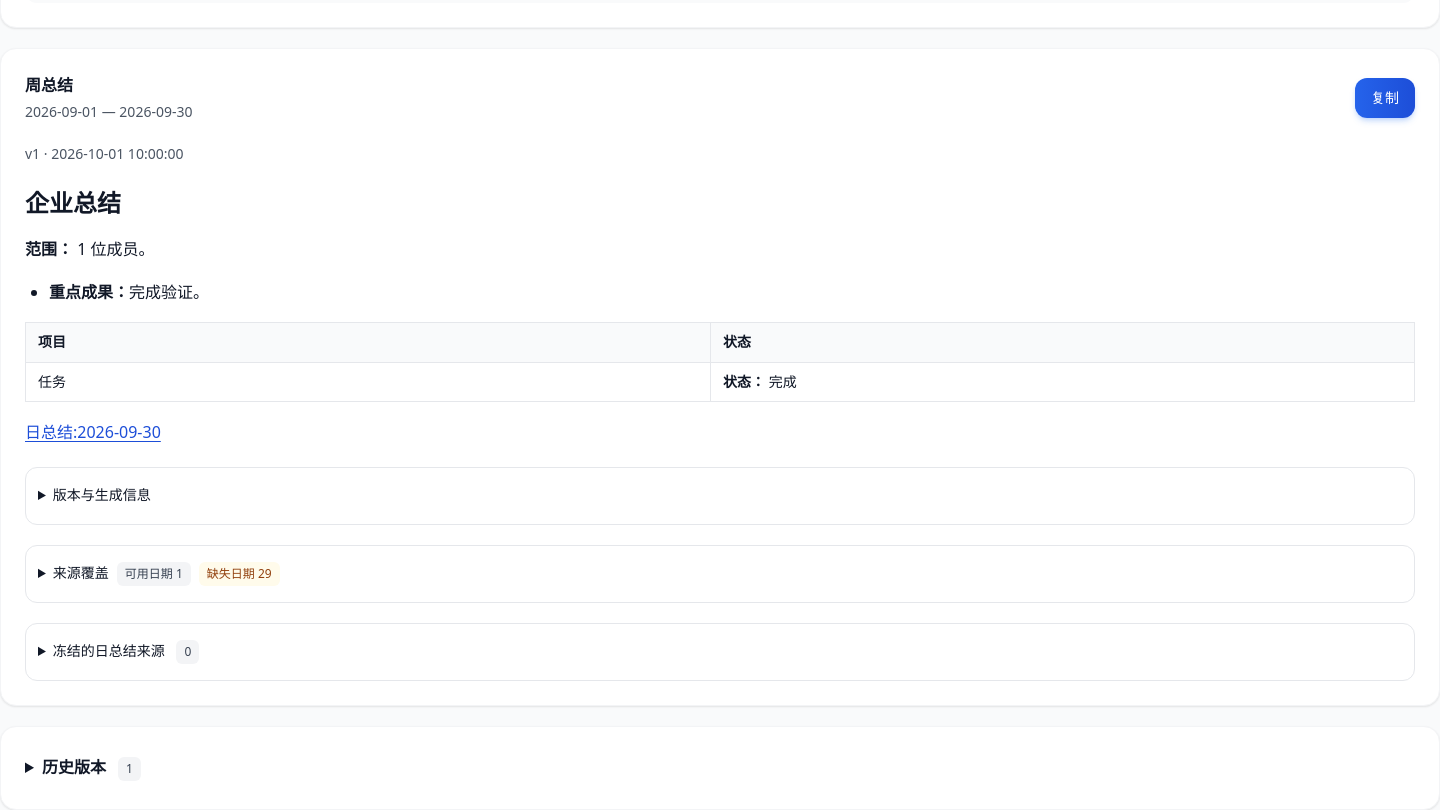
Test: Period report reading order › renders generated Markdown in week summaries and their frozen daily sources
(page scrolled)
Expected: the heading "企业总结" is shown, [25,186,121,219]
Click the link with id "frozen-source-2026-09-30". click: (93, 432)
box: [25,421,161,443]
(page scrolled)
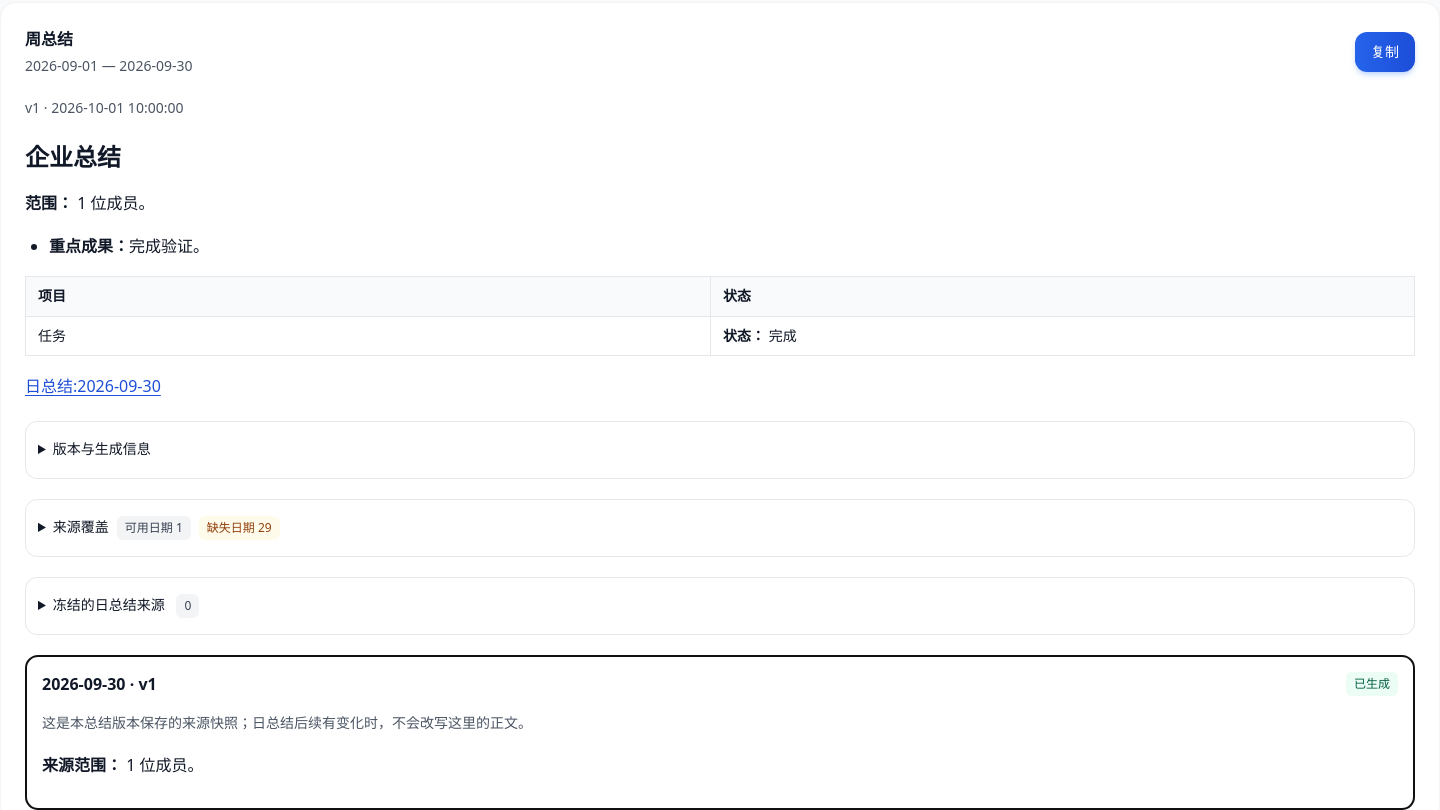
Expected: the text "来源范围：" is shown, [42,754,126,776]
